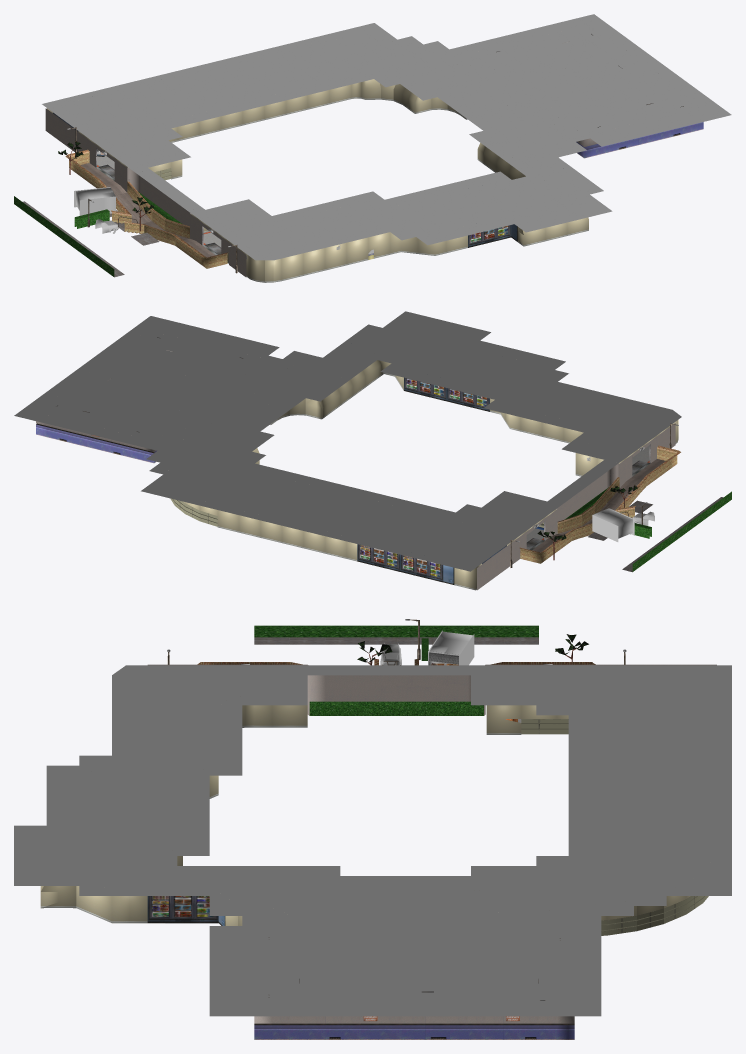
The picture shows the model from 3 angles, top to bottom: view 1: azimuth 30°, elevation 25°; view 2: azimuth 150°, elevation 25°; view 3: azimuth 270°, elevation 25°; orthographic projection. The views are drawn at different scales.
Visible parts, largest first — view 1: vc___Material.002, obj.006___f.001, obj.010___j.001, obj.009___i.001, obj.004___d.001, obj.003___c.001; view 2: vc___Material.002, obj.006___f.001, obj.009___i.001, obj.010___j.001, obj.004___d.001, obj.003___c.001, obj.007___g.001; view 3: vc___Material.002, obj.009___i.001, obj.010___j.001, obj.006___f.001, obj.007___g.001, obj.004___d.001, obj.003___c.001.
Part boxes in pixels (bbox=[...]): vc___Material.002: bbox=[42, 14, 731, 260]; obj.006___f.001: bbox=[47, 79, 588, 282]; obj.010___j.001: bbox=[14, 141, 228, 276]; obj.009___i.001: bbox=[45, 34, 703, 277]; obj.004___d.001: bbox=[53, 112, 517, 247]; obj.003___c.001: bbox=[23, 118, 467, 277]; vc___Material.002: bbox=[14, 311, 681, 571]; obj.006___f.001: bbox=[183, 360, 678, 590]; obj.009___i.001: bbox=[36, 337, 675, 590]; obj.010___j.001: bbox=[519, 445, 731, 571]; obj.004___d.001: bbox=[357, 377, 506, 584]; obj.003___c.001: bbox=[270, 424, 723, 572]; obj.007___g.001: bbox=[107, 350, 543, 530]; vc___Material.002: bbox=[14, 619, 731, 1016]; obj.009___i.001: bbox=[148, 619, 716, 1039]; obj.010___j.001: bbox=[197, 625, 595, 715]; obj.006___f.001: bbox=[40, 705, 690, 925]; obj.007___g.001: bbox=[437, 663, 708, 935]; obj.004___d.001: bbox=[147, 896, 225, 925]; obj.003___c.001: bbox=[254, 637, 538, 644].
Bounding box in the file's own units: 250 × 16.39 × 182.
Materials: 11 (10 with a texture image).
